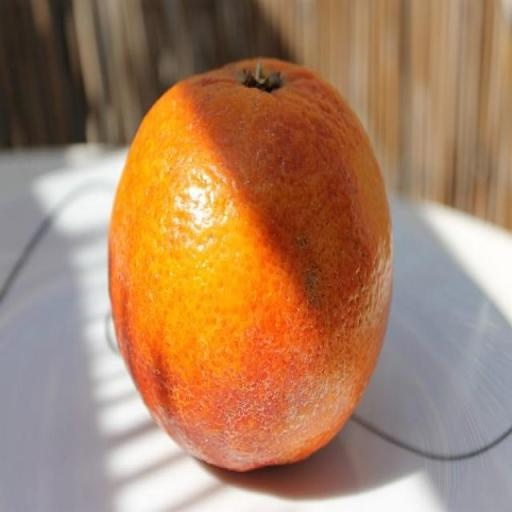fruit: (313, 164, 450, 512)
